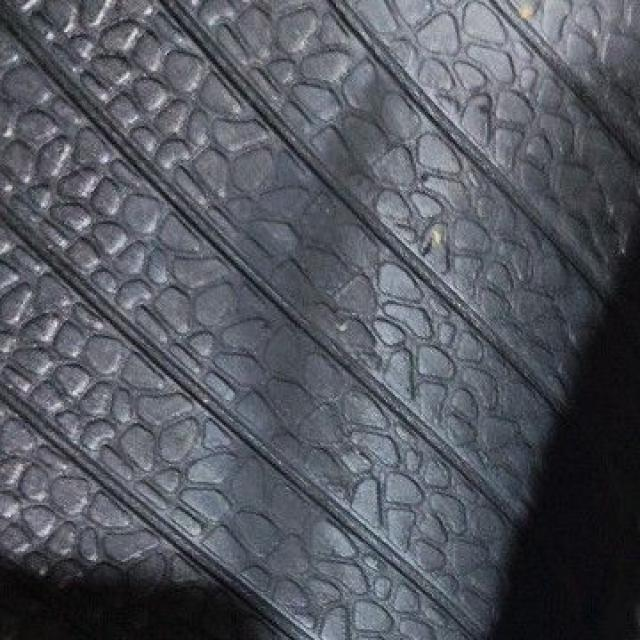Bulge: (232, 38, 450, 640)
